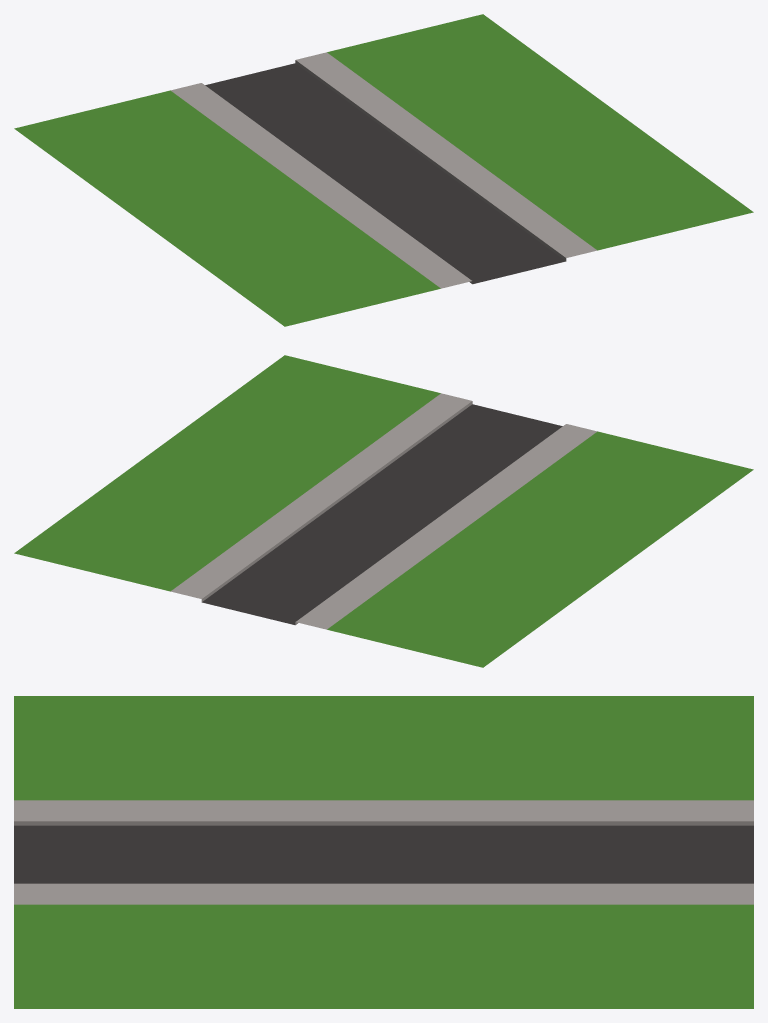
Rendered from tiles-nb_tile-road-straight-nb.fbx.
3 views of the same model, one above another, from view 1: azimuth 30°, elevation 25°; view 2: azimuth 150°, elevation 25°; view 3: azimuth 270°, elevation 25° (orthographic). The views are drawn at different scales.
Parts seen in each view (by area): view 1: tiles_nb_tile_road_straight_nb; view 2: tiles_nb_tile_road_straight_nb; view 3: tiles_nb_tile_road_straight_nb.
Part boxes in pixels (x1=…): tiles_nb_tile_road_straight_nb: x1=14, y1=14, x2=753, y2=326; tiles_nb_tile_road_straight_nb: x1=14, y1=355, x2=753, y2=667; tiles_nb_tile_road_straight_nb: x1=14, y1=696, x2=753, y2=1008.
Bounding box in the file's own units: 200 × 1.33 × 200.
